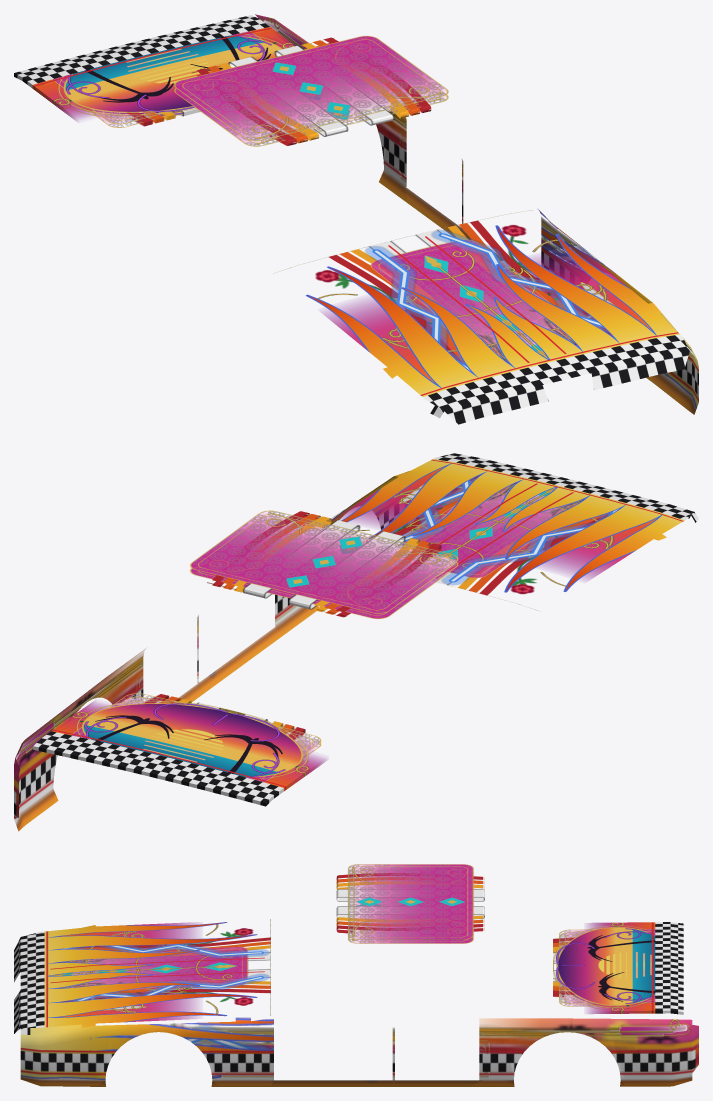
Rendered from AurexHalcyonVinyls.glb.
3 renders of one model, top to bottom at view 1: azimuth 30°, elevation 25°; view 2: azimuth 150°, elevation 25°; view 3: azimuth 270°, elevation 25°, orthographic. The views are drawn at different scales.
Visible parts, largest first — view 1: AurexHalcyonLivery_flames_hood, AurexHalcyonLivery_patterns_roof, AurexHalcyonLivery_purple_lace_roof, AurexHalcyonLivery_checker_hood, AurexHalcyonLivery_mural_trunk, AurexHalcyonLivery_patterns_hood, AurexHalcyonLivery_checker_trunk, AurexHalcyonLivery_lightning_hood, AurexHalcyonLivery_purple_lace_hood, AurexHalcyonLivery_retro_waves_roof, AurexHalcyonLivery_sunset_fade_hood, AurexHalcyonLivery_retro_waves_hood (+14 smaller); view 2: AurexHalcyonLivery_patterns_roof, AurexHalcyonLivery_flames_hood, AurexHalcyonLivery_purple_lace_roof, AurexHalcyonLivery_mural_trunk, AurexHalcyonLivery_checker_trunk, AurexHalcyonLivery_patterns_hood, AurexHalcyonLivery_retro_waves_roof, AurexHalcyonLivery_checker_hood, AurexHalcyonLivery_sunset_fade_side, AurexHalcyonLivery_sunset_fade_hood, AurexHalcyonLivery_purple_lace_hood, AurexHalcyonLivery_lightning_hood (+16 smaller); view 3: AurexHalcyonLivery_flames_hood, AurexHalcyonLivery_patterns_roof, AurexHalcyonLivery_purple_lace_roof, AurexHalcyonLivery_checker_side, AurexHalcyonLivery_mural_trunk, AurexHalcyonLivery_flames_side, AurexHalcyonLivery_patterns_hood, AurexHalcyonLivery_sunset_fade_side, AurexHalcyonLivery_checker_hood, AurexHalcyonLivery_tropical_side, AurexHalcyonLivery_checker_trunk, AurexHalcyonLivery_stripes_side (+21 smaller).
Part boxes in pixels (box(x1,y1,x2,y2)): AurexHalcyonLivery_flames_hood: box(306, 225, 679, 396); AurexHalcyonLivery_patterns_roof: box(174, 36, 448, 146); AurexHalcyonLivery_purple_lace_roof: box(178, 41, 445, 145); AurexHalcyonLivery_checker_hood: box(388, 236, 693, 424); AurexHalcyonLivery_mural_trunk: box(53, 33, 293, 118); AurexHalcyonLivery_patterns_hood: box(370, 239, 576, 361); AurexHalcyonLivery_checker_trunk: box(14, 15, 271, 89); AurexHalcyonLivery_lightning_hood: box(365, 230, 608, 370); AurexHalcyonLivery_purple_lace_hood: box(412, 252, 572, 359); AurexHalcyonLivery_retro_waves_roof: box(192, 37, 431, 145); AurexHalcyonLivery_sunset_fade_hood: box(325, 252, 651, 383); AurexHalcyonLivery_retro_waves_hood: box(329, 220, 612, 363); AurexHalcyonLivery_patterns_roof: box(190, 510, 458, 618); AurexHalcyonLivery_flames_hood: box(341, 459, 684, 592); AurexHalcyonLivery_purple_lace_roof: box(196, 511, 456, 615); AurexHalcyonLivery_mural_trunk: box(72, 701, 308, 779); AurexHalcyonLivery_checker_trunk: box(33, 729, 285, 806); AurexHalcyonLivery_patterns_hood: box(401, 484, 581, 577); AurexHalcyonLivery_retro_waves_roof: box(207, 511, 441, 617); AurexHalcyonLivery_checker_hood: box(431, 453, 698, 578); AurexHalcyonLivery_sunset_fade_side: box(14, 606, 318, 831); AurexHalcyonLivery_sunset_fade_hood: box(338, 466, 657, 578); AurexHalcyonLivery_purple_lace_hood: box(425, 485, 580, 562); AurexHalcyonLivery_lightning_hood: box(401, 477, 618, 584); AurexHalcyonLivery_flames_hood: box(44, 922, 257, 1027); AurexHalcyonLivery_patterns_roof: box(348, 864, 473, 943); AurexHalcyonLivery_purple_lace_roof: box(348, 865, 462, 942); AurexHalcyonLivery_checker_side: box(20, 1046, 696, 1075); AurexHalcyonLivery_mural_trunk: box(553, 922, 655, 1013); AurexHalcyonLivery_flames_side: box(20, 1018, 673, 1079); AurexHalcyonLivery_patterns_hood: box(54, 946, 247, 990); AurexHalcyonLivery_sunset_fade_side: box(20, 1028, 698, 1086); AurexHalcyonLivery_checker_hood: box(14, 931, 264, 1034); AurexHalcyonLivery_tropical_side: box(479, 1018, 698, 1055); AurexHalcyonLivery_checker_trunk: box(651, 922, 683, 1014); AurexHalcyonLivery_stripes_side: box(20, 1064, 698, 1082).
Size of the model in its own units: 7.37 by 4.51 by 20.8.
50 materials, 50 textured.
